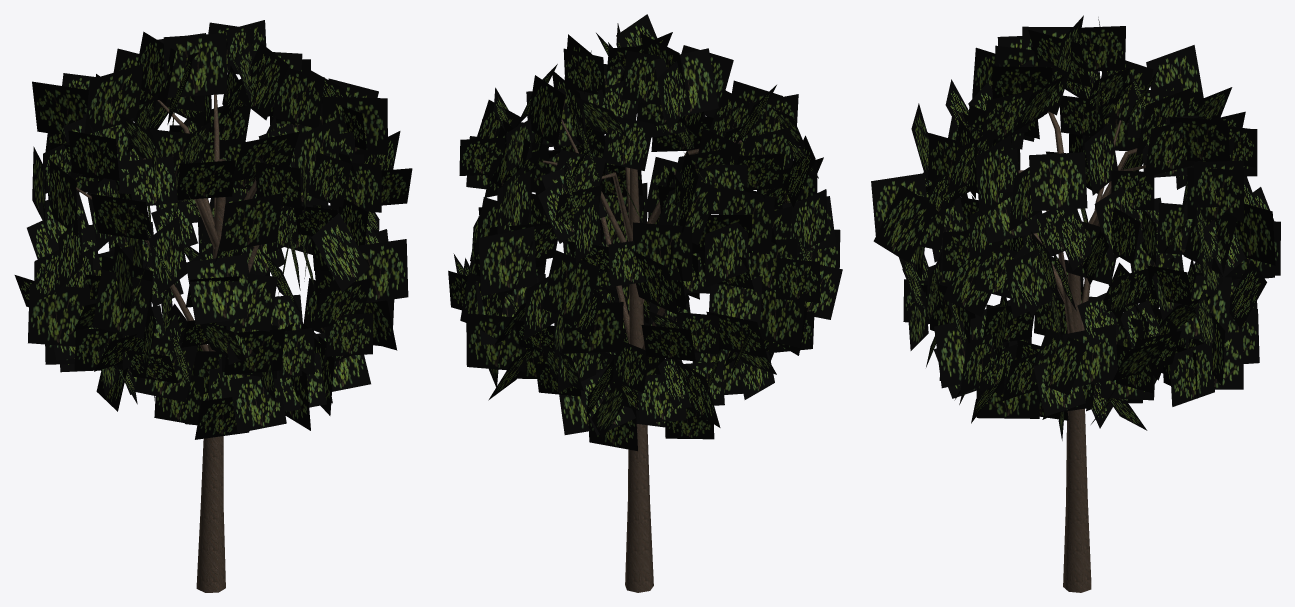
File: tpl_dike_row_dike_ash_hi.glb
The picture shows the model from 3 angles, left to right: view 1: azimuth 30°, elevation 25°; view 2: azimuth 150°, elevation 25°; view 3: azimuth 270°, elevation 25°; orthographic projection. The views are drawn at different scales.
Parts seen in each view (by area): view 1: tpl_dike_row_dike_ash_hi; view 2: tpl_dike_row_dike_ash_hi; view 3: tpl_dike_row_dike_ash_hi.
Part boxes in pixels (left/top/right/bottom): tpl_dike_row_dike_ash_hi: left=14, top=20, right=412, bottom=592; tpl_dike_row_dike_ash_hi: left=448, top=14, right=842, bottom=592; tpl_dike_row_dike_ash_hi: left=871, top=15, right=1280, bottom=592.
Size of the model in its own units: 12.25 by 18.1 by 12.22.
2 materials, 2 textured.
